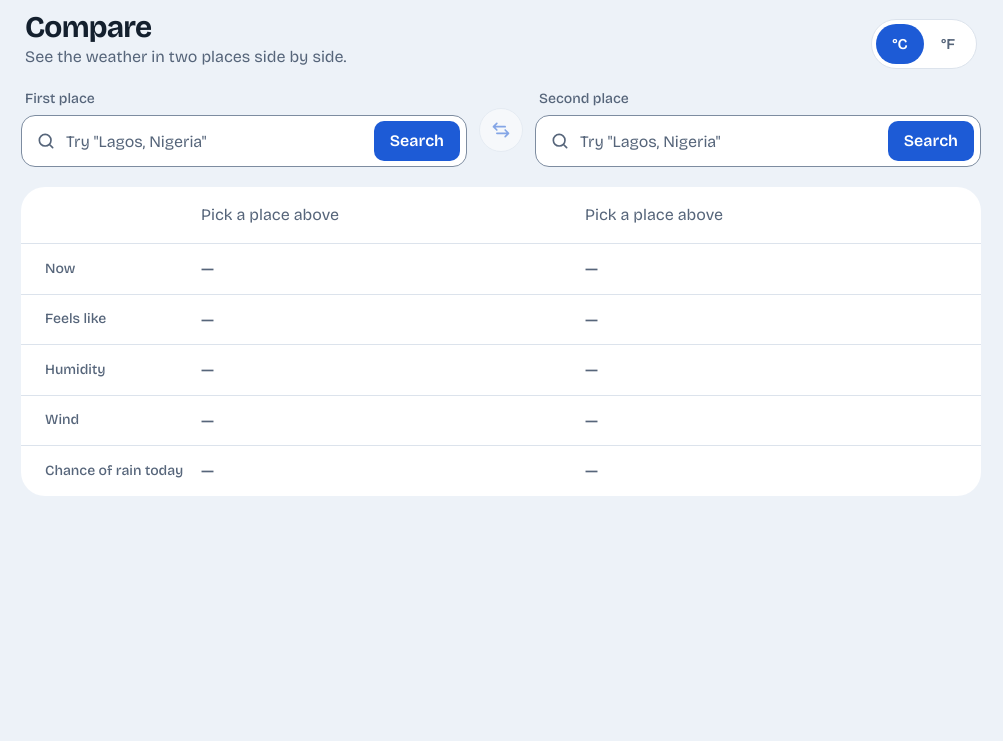
Test case: Compare page › keeps one side working when the other fails, and Try again reloads only that side
The image size is (1003, 741).
Step 1. Type "Lagos" into the dropdown named "First place" → x=215, y=141, box x1=60 y1=116 x2=370 y2=166
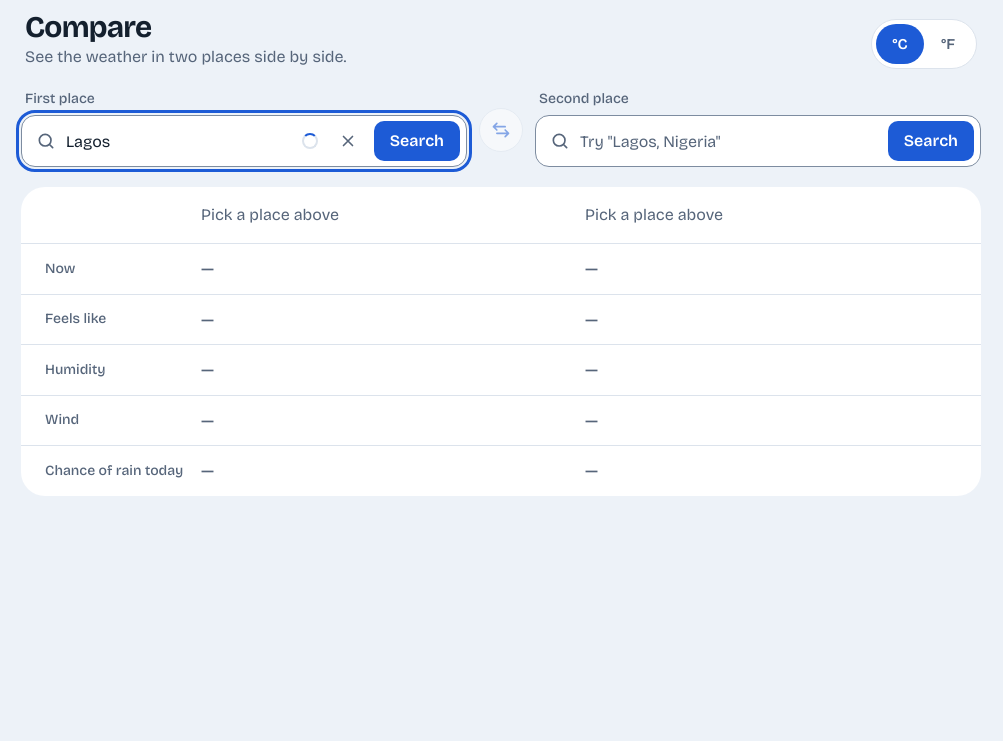
Step 2. Click the 1st button "Search" → x=417, y=141, box x1=374 y1=121 x2=460 y2=161
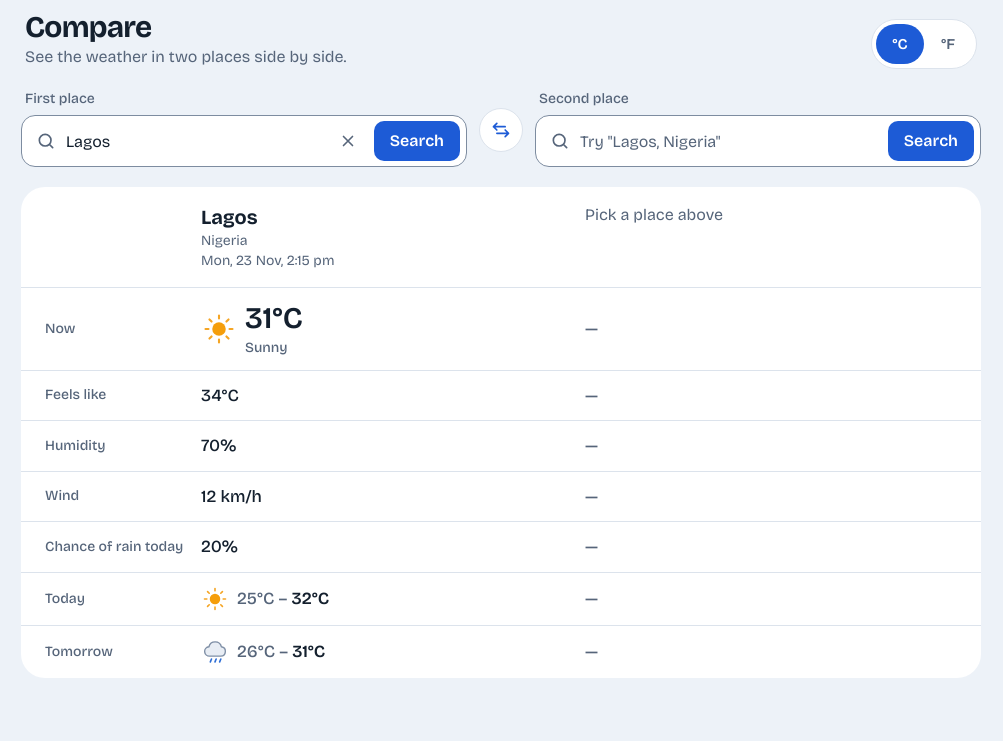
Step 3. Type "Accra" into the dropdown named "Second place" → x=729, y=141, box x1=574 y1=116 x2=884 y2=166
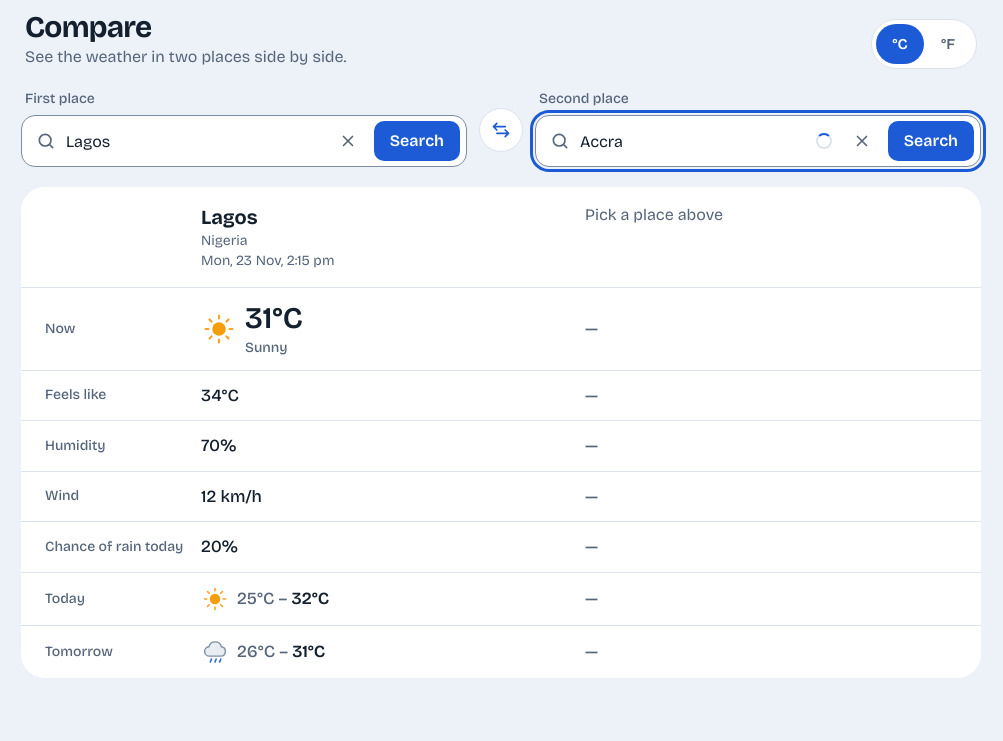
Step 4. Click the button "Search" below "Second place" → x=931, y=141, box x1=888 y1=121 x2=974 y2=161
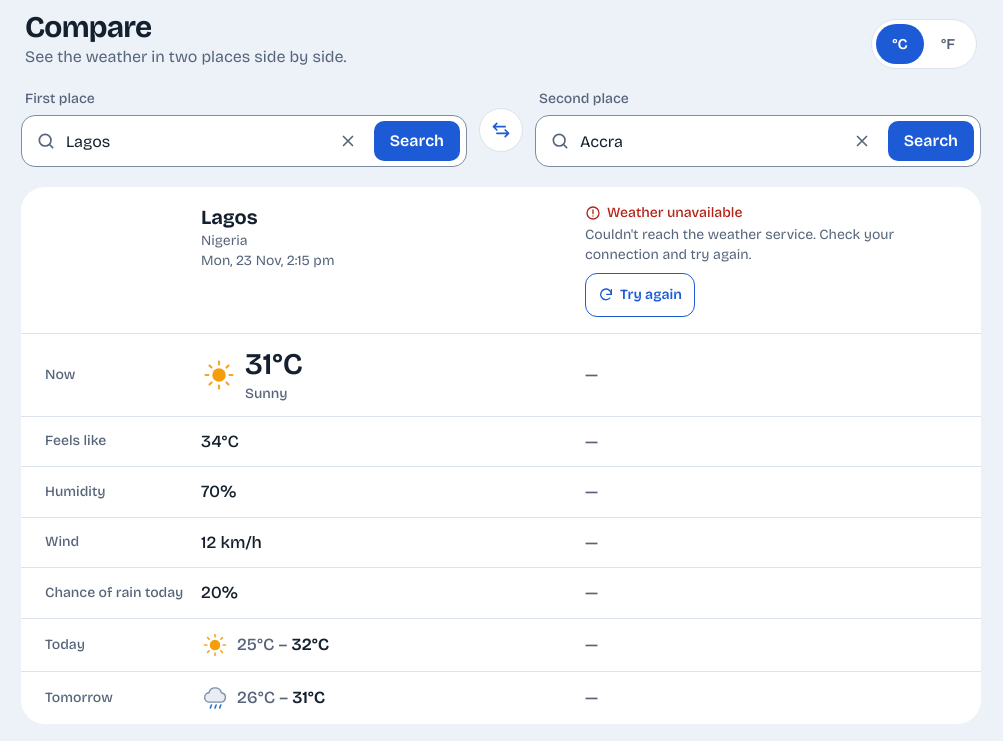
Expected: the message shows "Weather unavailable", x1=607 y1=204 x2=742 y2=221
Expected: the message shows "Couldn't reach the weather service.", x1=585 y1=226 x2=894 y2=263
Step 5. Click the button "Try again" → x=640, y=295, box x1=585 y1=273 x2=695 y2=317
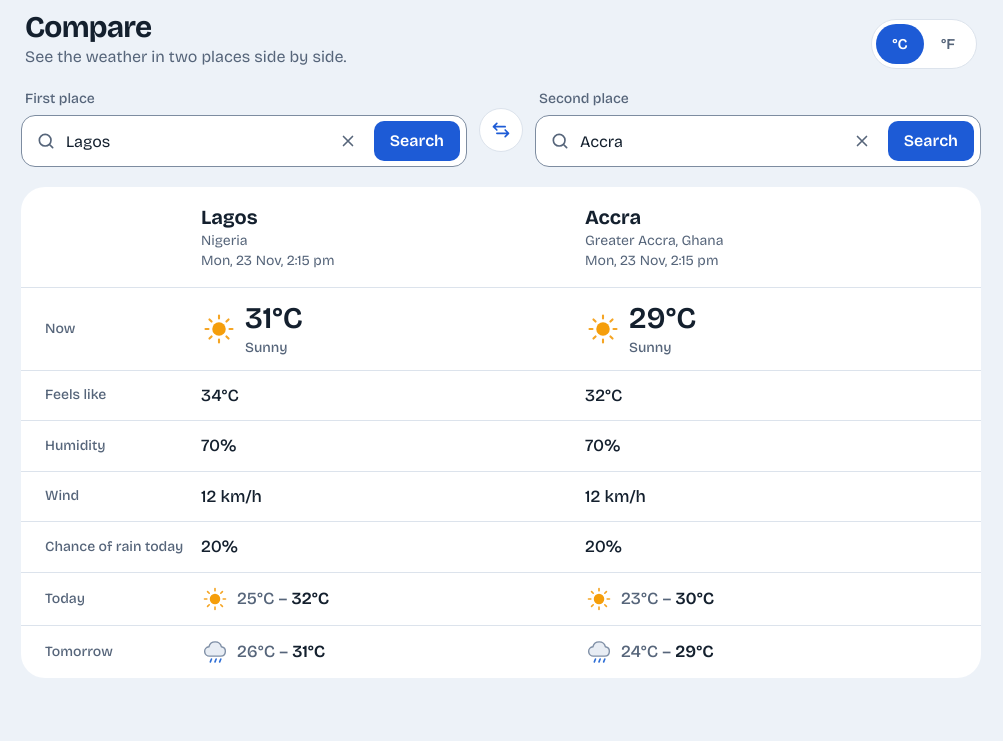
Expected: the text "Accra" is shown, x1=585 y1=205 x2=641 y2=229
